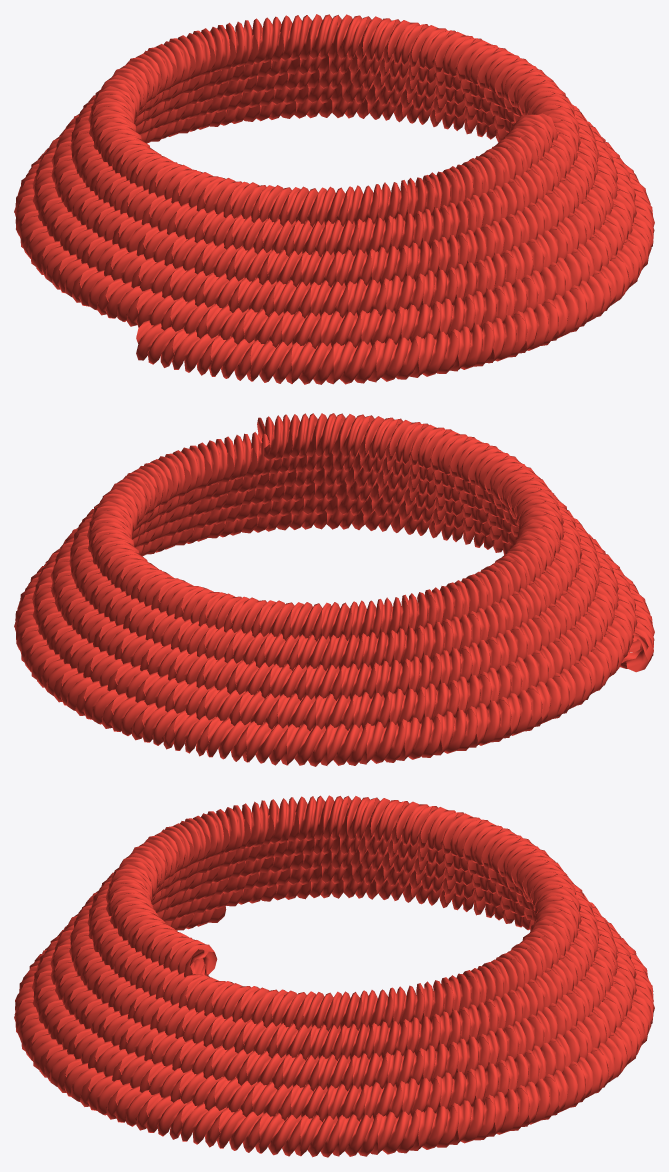
File: rope.fbx
3 views of the same model, one above another, from view 1: azimuth 30°, elevation 25°; view 2: azimuth 150°, elevation 25°; view 3: azimuth 270°, elevation 25° (orthographic).
Parts seen in each view (by area): view 1: Rope; view 2: Rope; view 3: Rope.
Boxes of the visible parts, x1,y1,x2,y2 form: Rope: (14,14,654,384); Rope: (14,413,654,766); Rope: (14,795,654,1157).
Size of the model in its own units: 184 by 51.18 by 187.
1 material, 1 textured.
